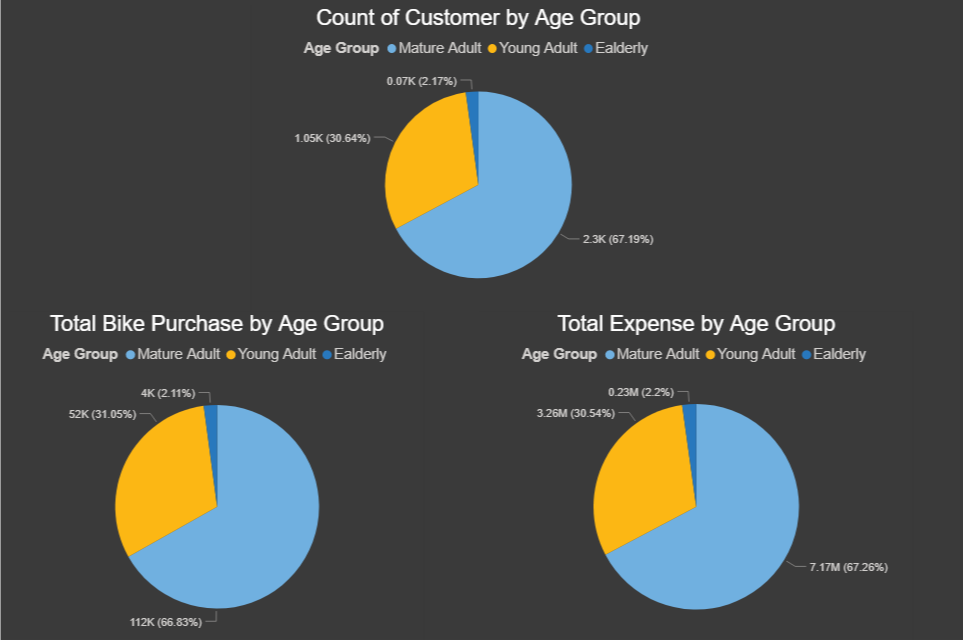

Layout of this report page (visuals, bound fields, positions):
{"tool":"powerbi","page":{"name":"TransactionsDOB","canvas":[1280,720],"ordinal":1},"visuals":[{"type":"pieChart","title":"Count of Customer by Age Group","fields":{"Y":["CountNonNull(TransactionsDOB.customer_id)"],"Series":["TransactionsDOB.age_category"]},"box":[477,11,499.1,336.9],"z":0},{"type":"pieChart","title":"Total Bike Purchase by Age Group","fields":{"Y":["Sum(TransactionsDOB.past_3_years_bike_related_purchases)"],"Series":["TransactionsDOB.age_category"]},"box":[211,347.9,455,371.6],"z":1000},{"type":"pieChart","title":"Total Expense by Age Group","fields":{"Y":["Sum(TransactionsDOB.total_expense)"],"Series":["TransactionsDOB.age_category"]},"box":[727.4,347.9,475.5,371.6],"z":2000}]}

Visuals, with their boxes on the page's 1280x720 design canvas (x1, y1, x2, y2). These are canvas units, not pixel positions in the 963x640 screenshot, which may show the page scaled, cropped or inside an application window:
"Count of Customer by Age Group" pieChart: (left=477, top=11, right=976, bottom=348)
"Total Bike Purchase by Age Group" pieChart: (left=211, top=348, right=666, bottom=720)
"Total Expense by Age Group" pieChart: (left=727, top=348, right=1203, bottom=720)
